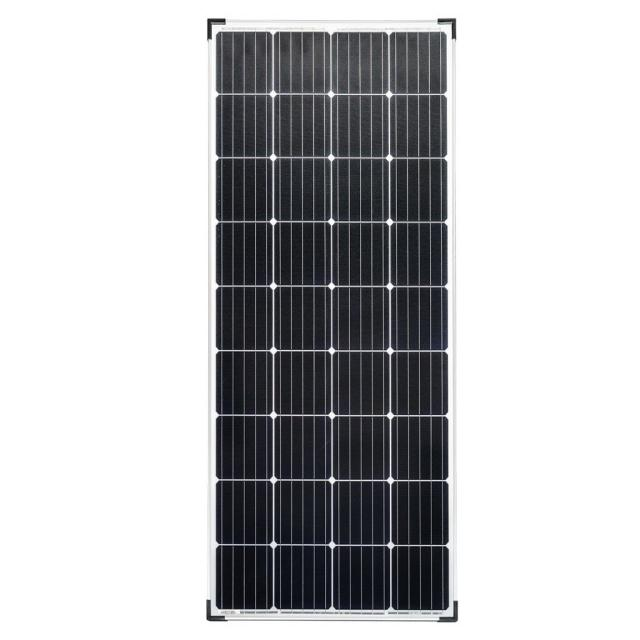clean-solar-panel: (208, 20, 456, 620)
